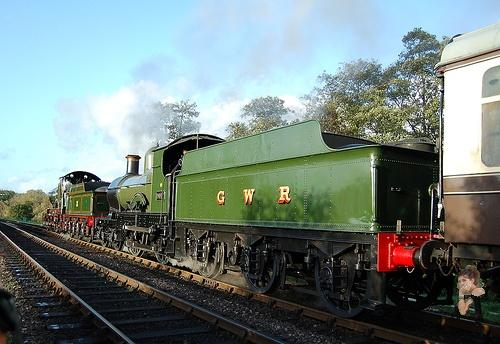tampered: (458, 266, 485, 315)
